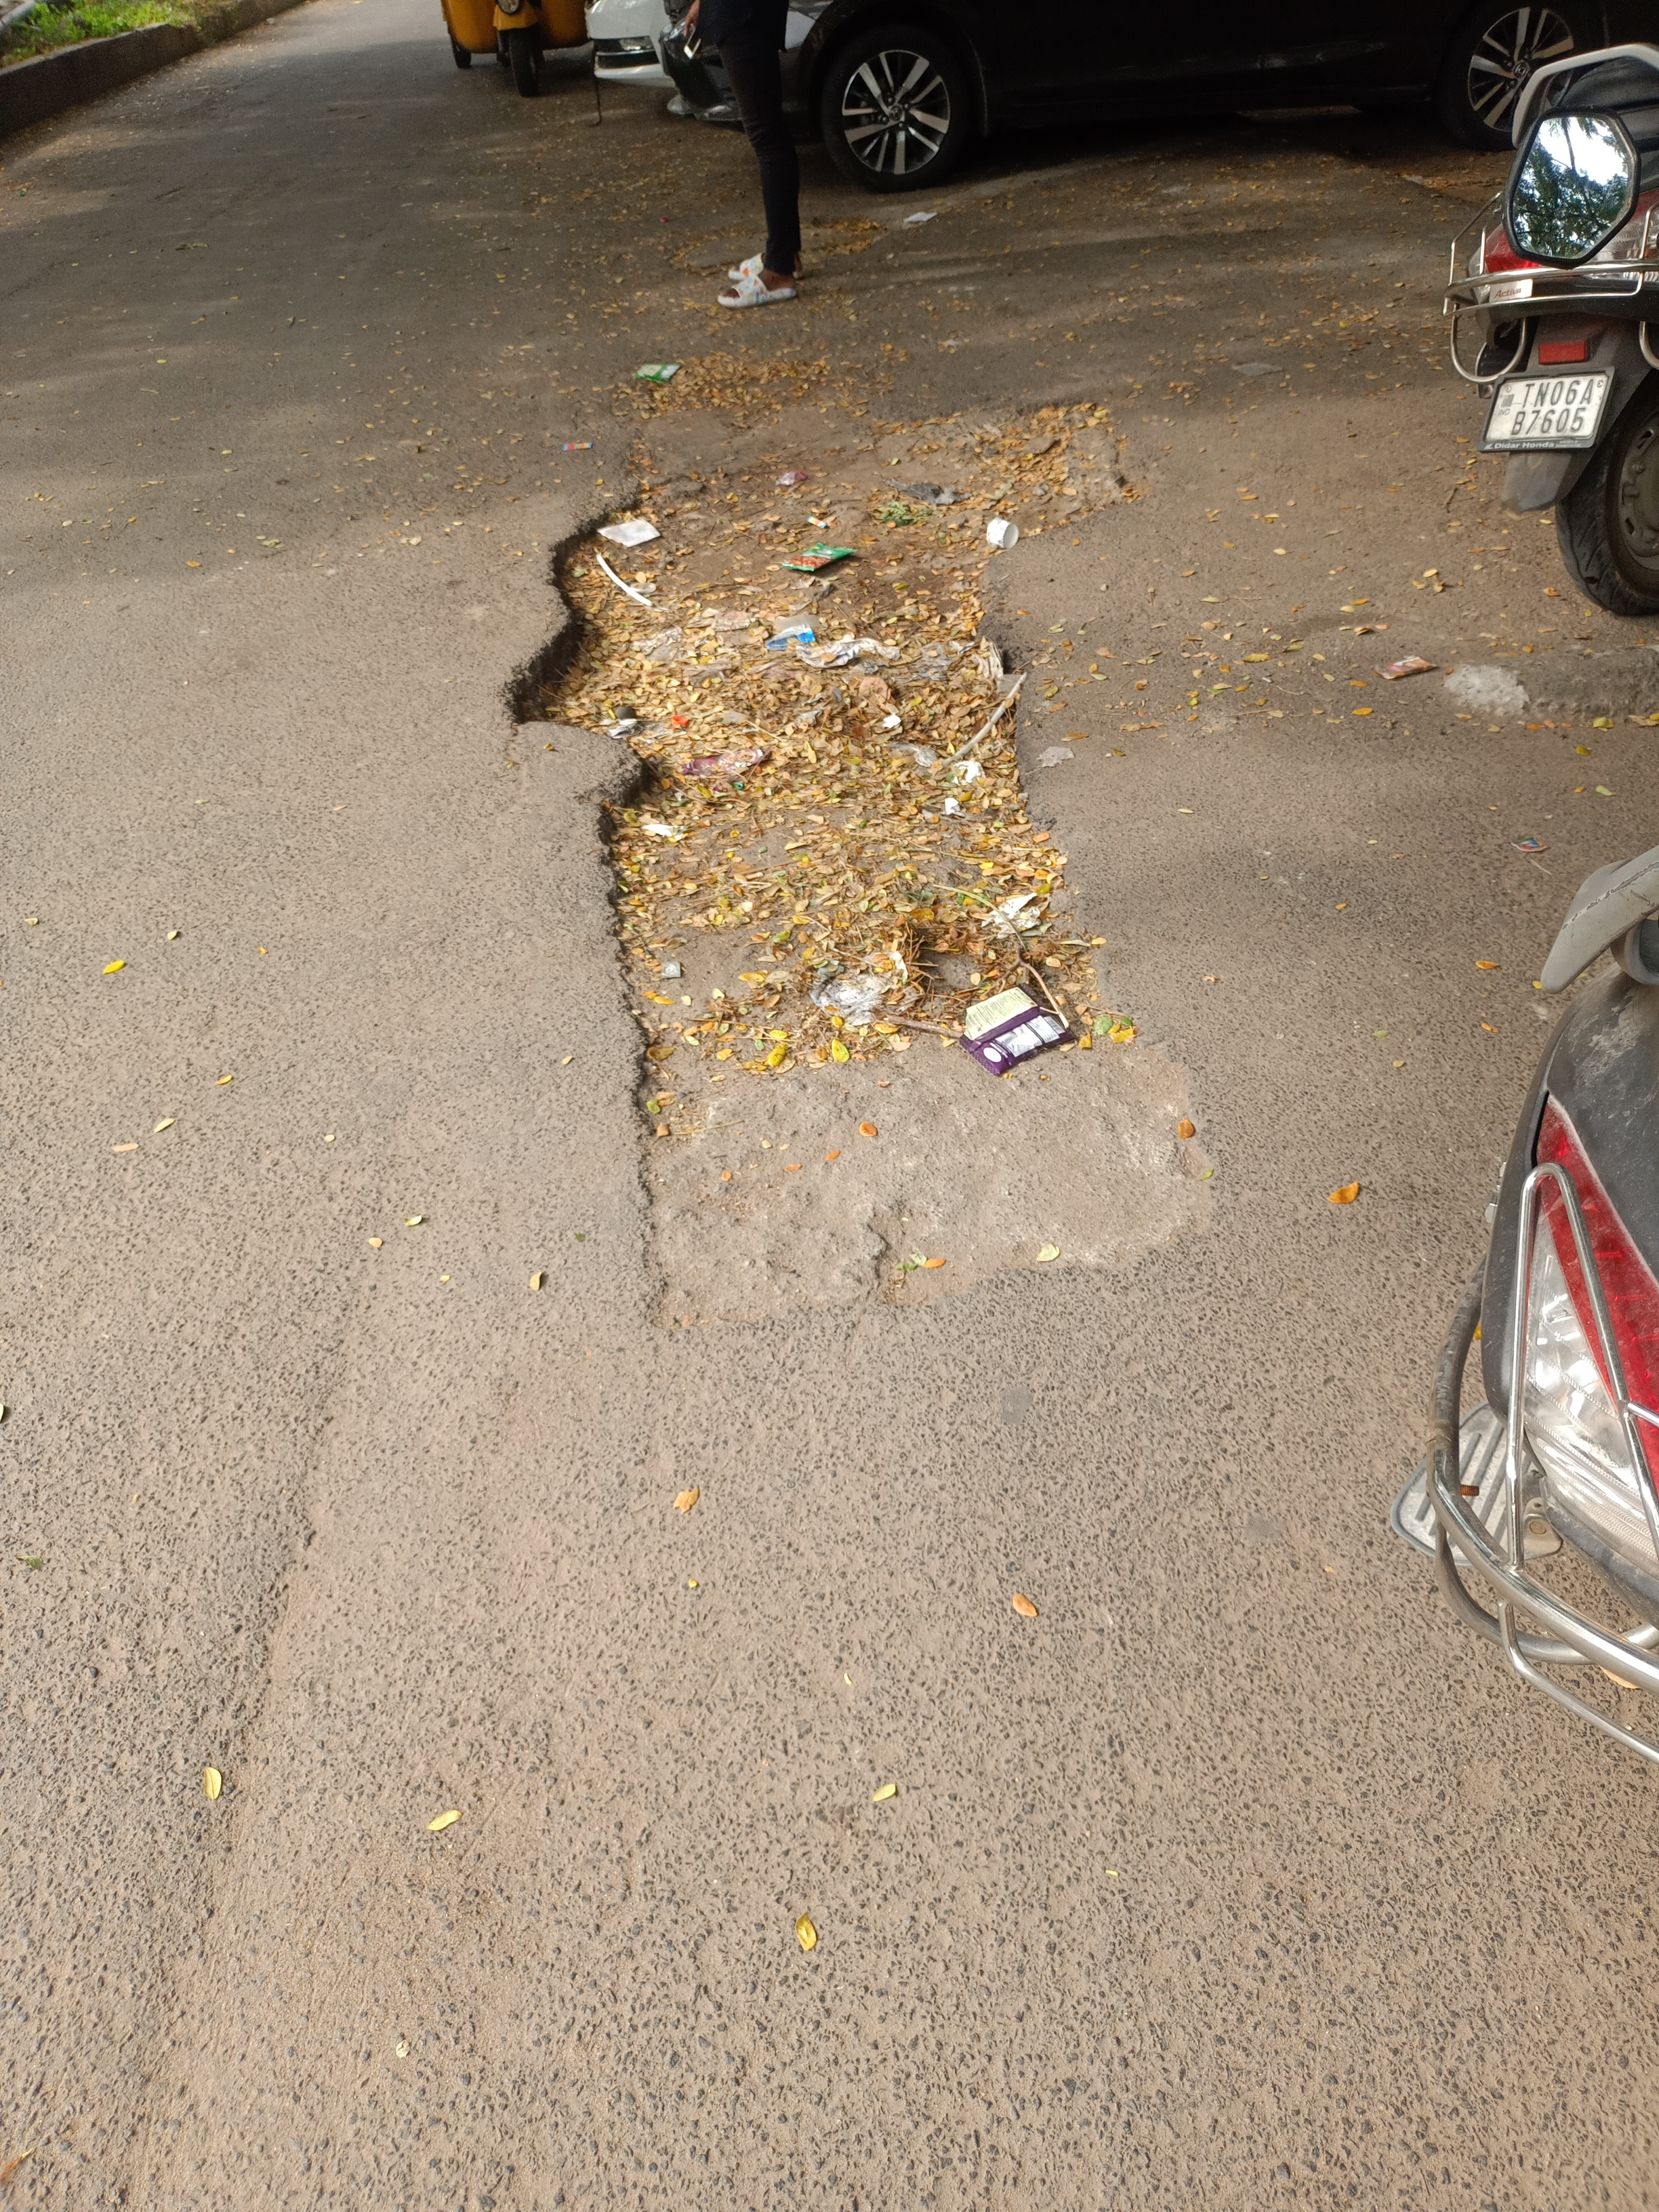potholes: (481, 359, 1227, 1308)
